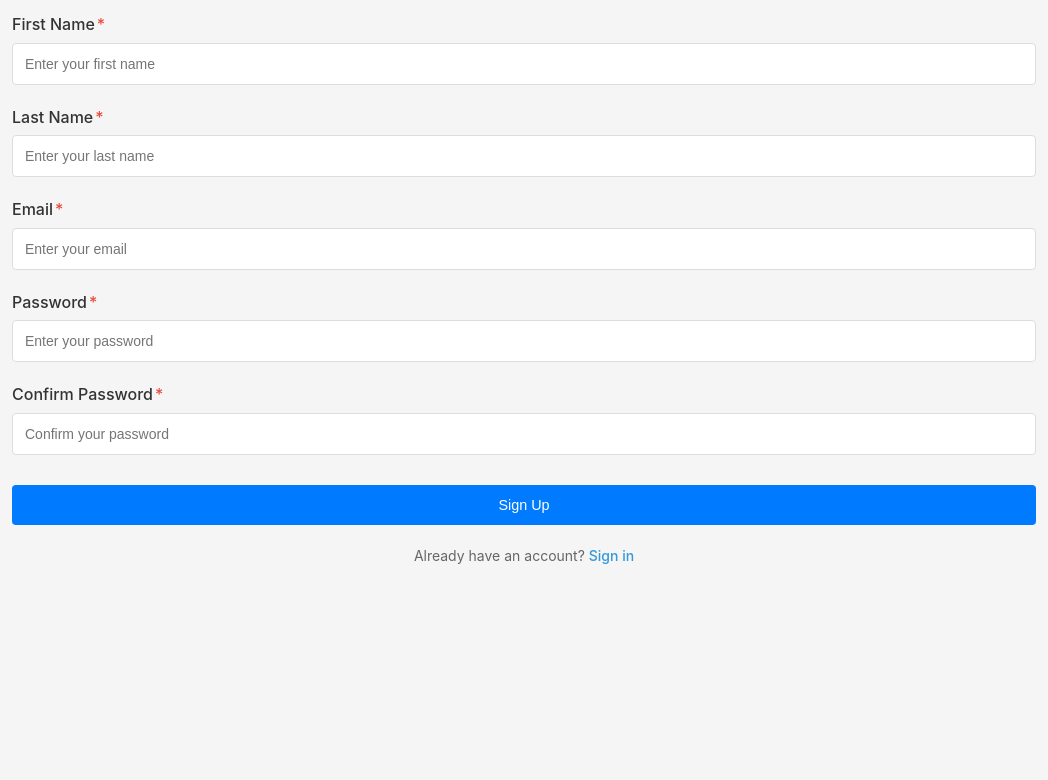
RegisterForm › shows password mismatch error
The width and height of the screenshot is (1048, 780).
Type "password123" into the password field with placeholder "Enter your password" at x=524, y=341, box [12,320,1036,362]
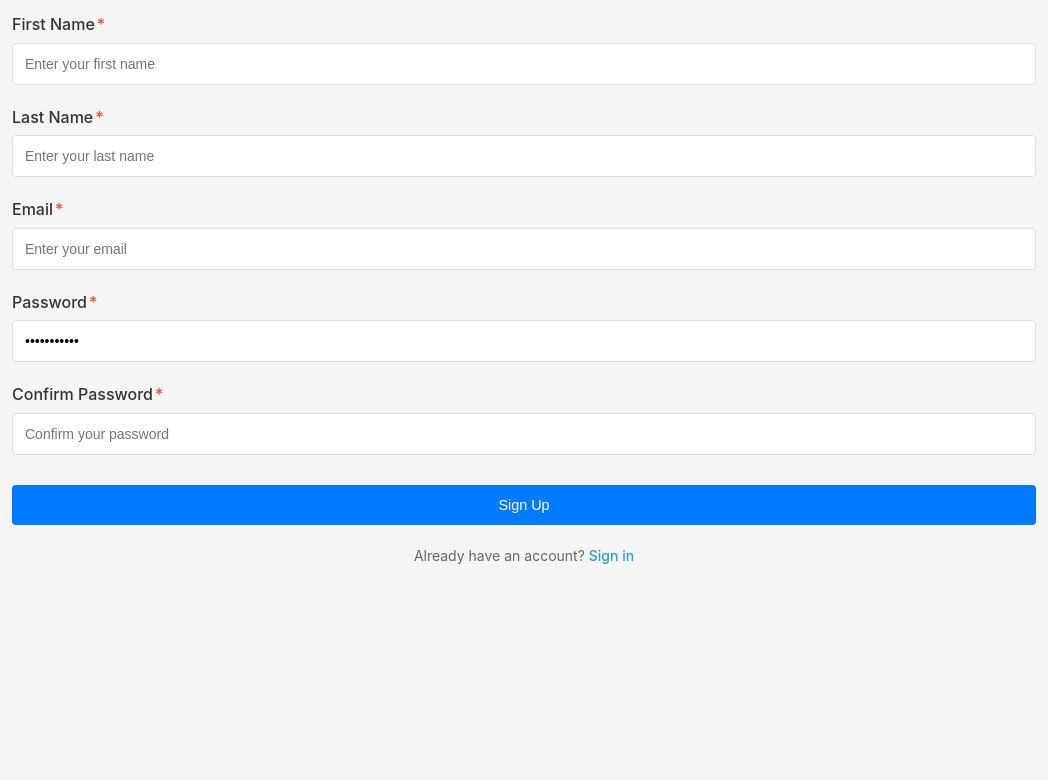
Type "different" into the password field with placeholder "Confirm your password" at x=524, y=434, box [12,413,1036,455]
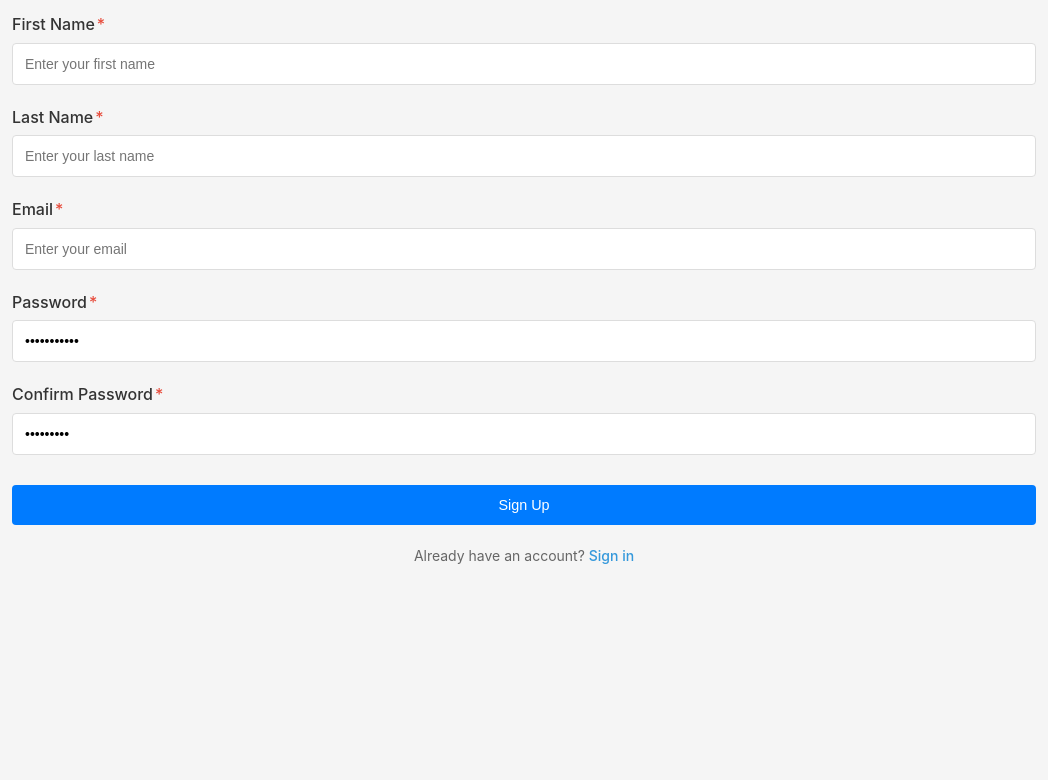
Click the button "Sign Up" at x=524, y=505, box [12,485,1036,525]
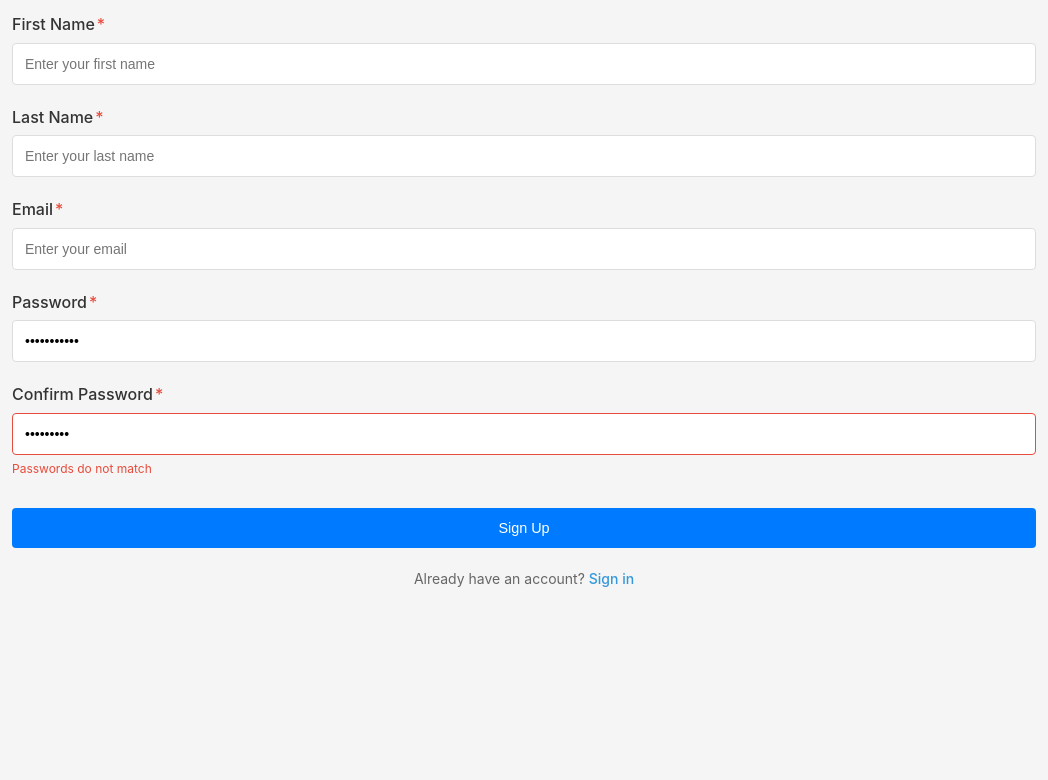
expect the text "Passwords do not match" is shown: met, box [12,461,152,476]
